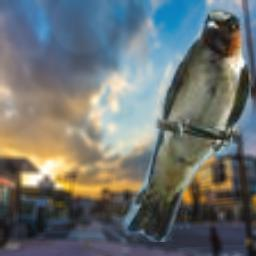Swallow: (121, 3, 251, 242)
